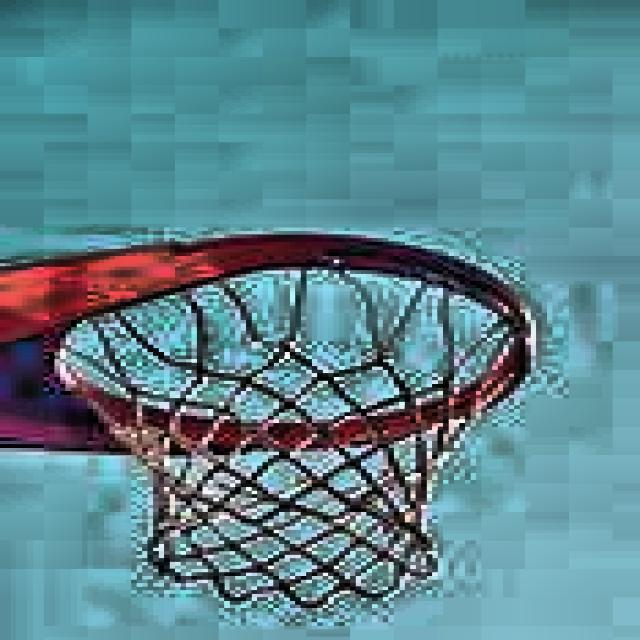rim: (30, 233, 539, 613)
